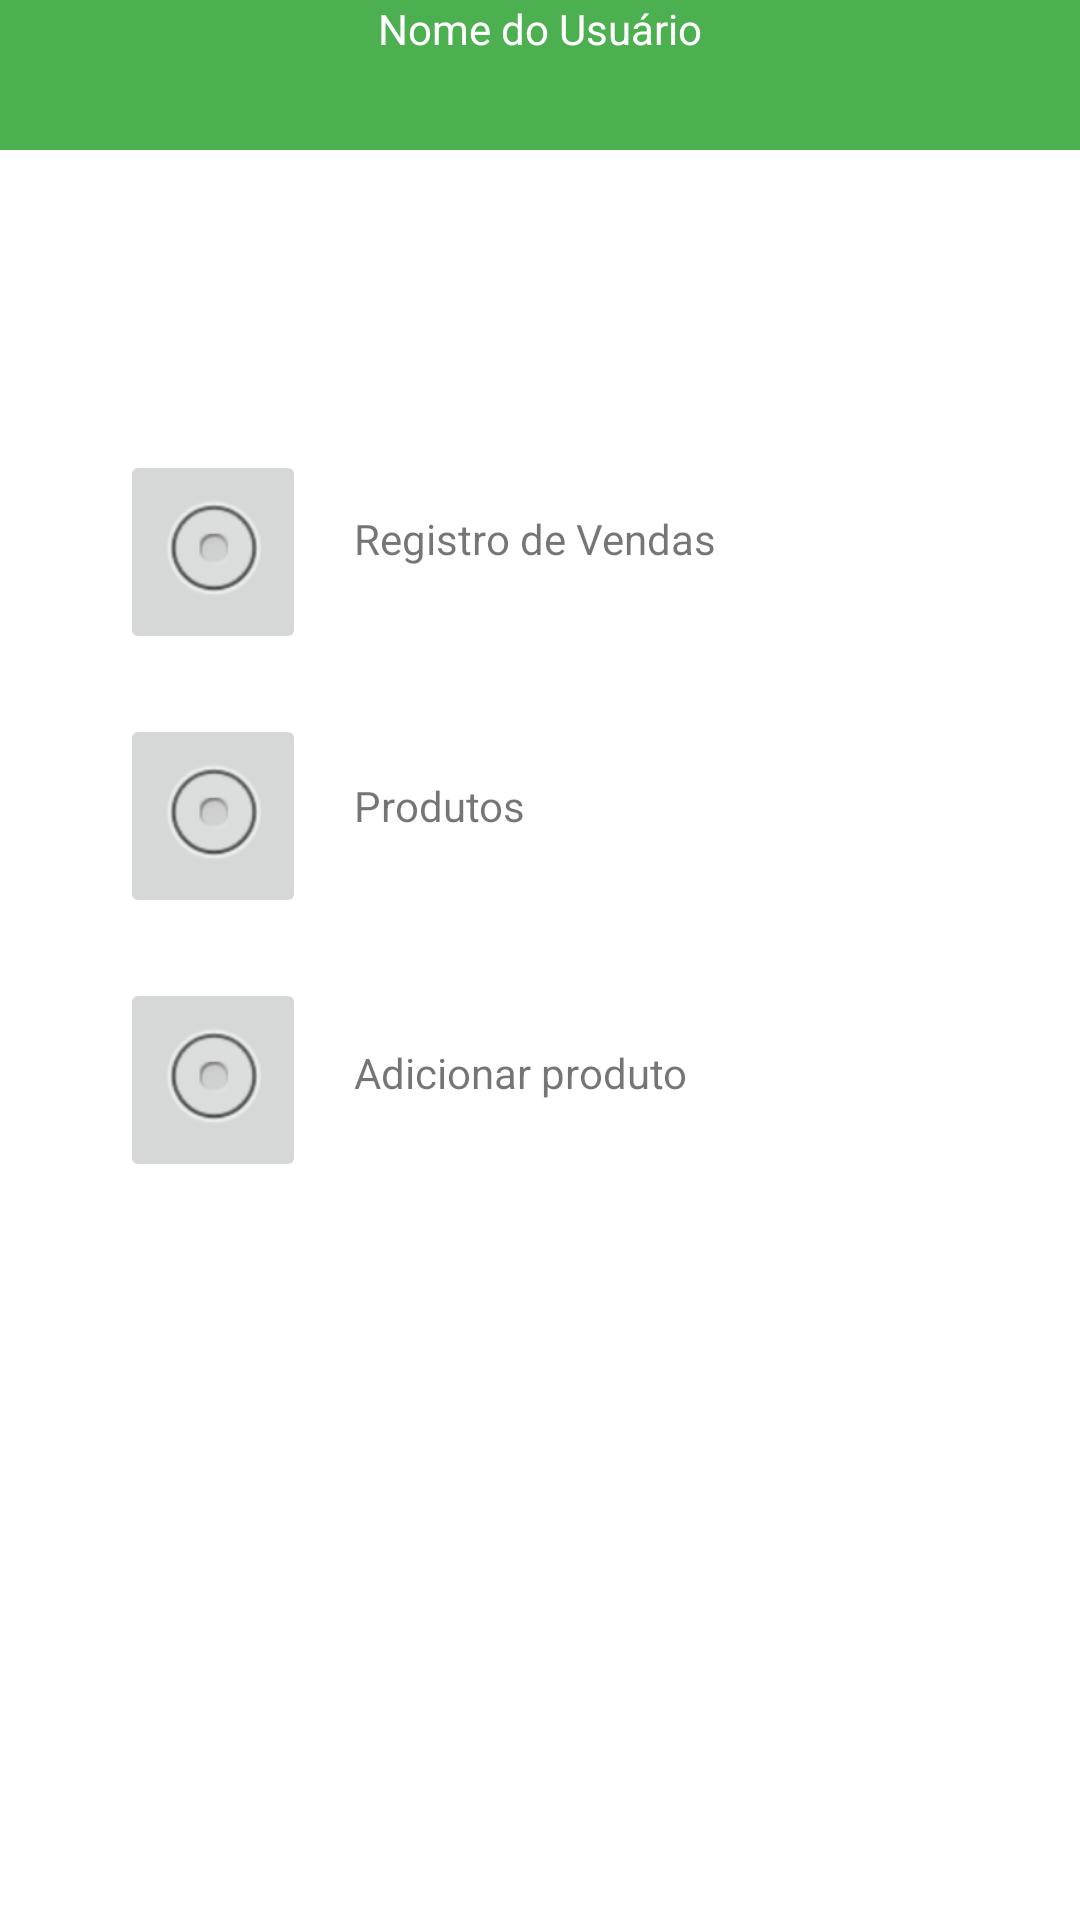

Icons on this 1080 × 1920 Android screen, each with the point to tap as point (x, y):
radio: point (213, 552), point (213, 816), point (213, 1080)
